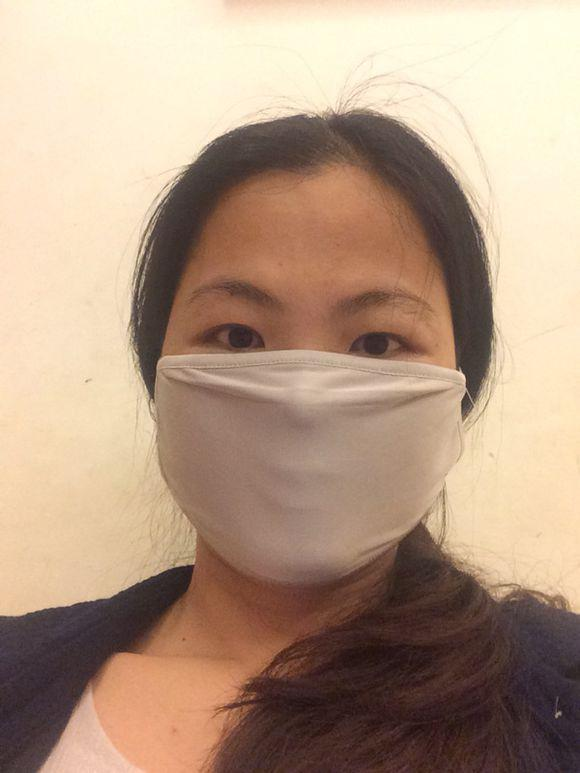OK: (171, 280, 444, 553)
